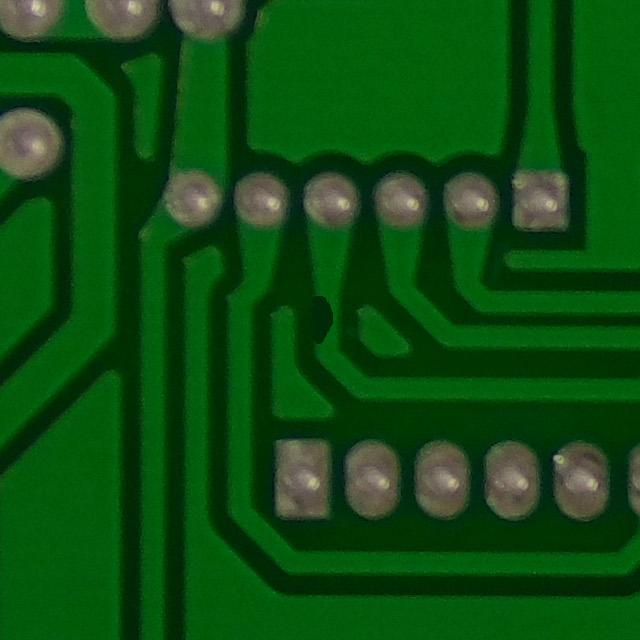mouse_bite: (295, 285, 345, 356)
